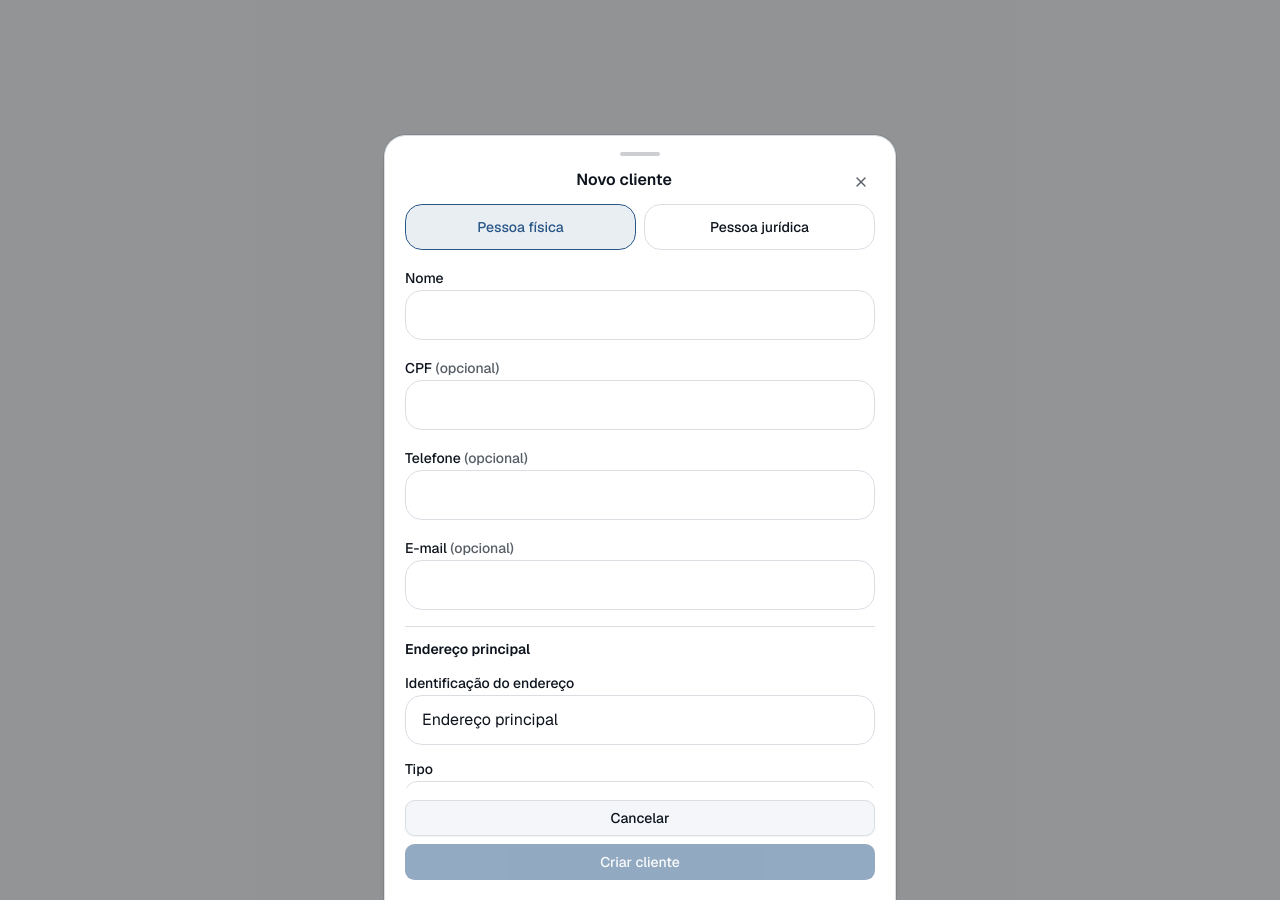
Test: QuickCustomerDialog › QC4: switching to Pessoa jurídica shows the CNPJ lookup button
Click the button "Pessoa jurídica": [760, 227] box top-left (644, 204), bottom-right (875, 250)
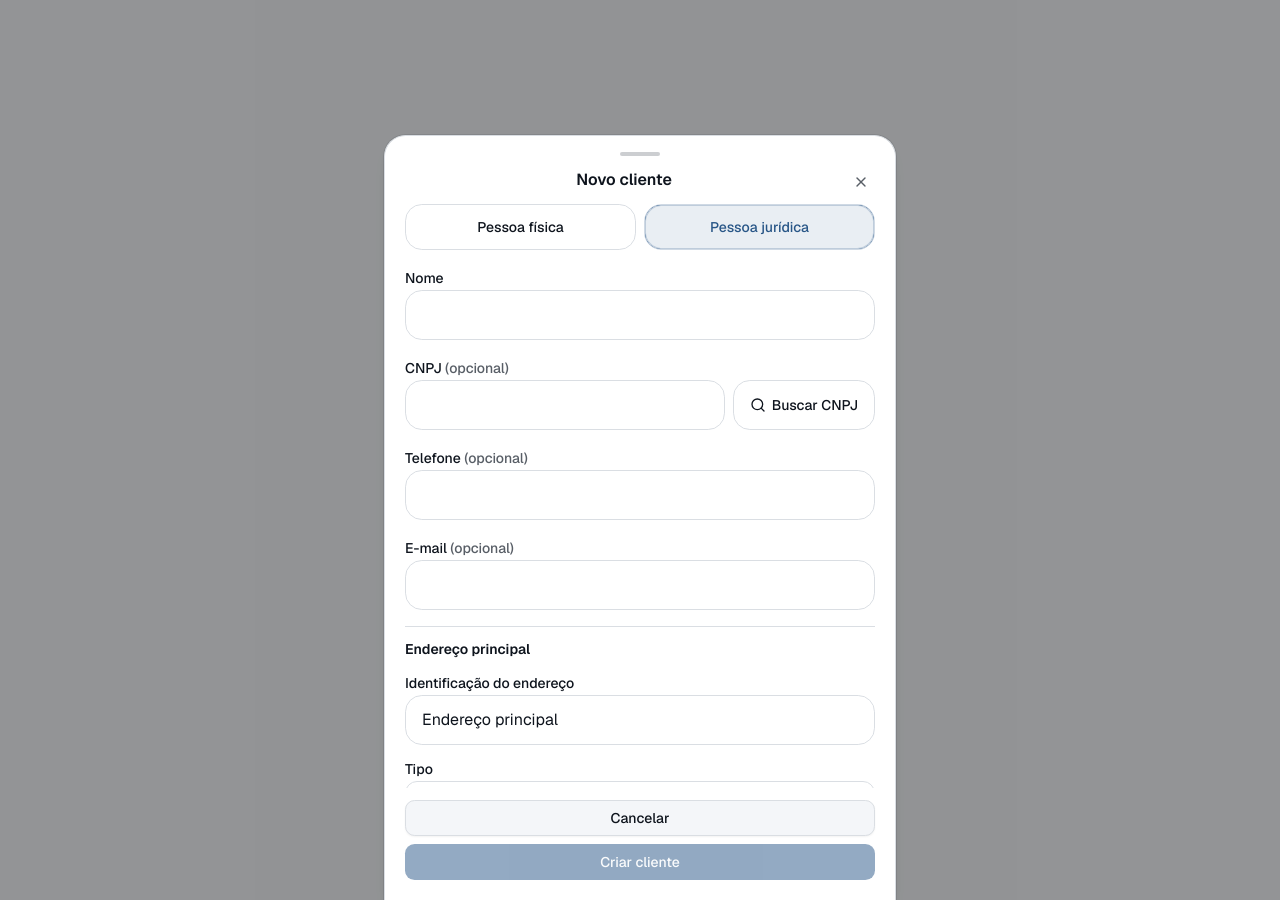
Now the button "Buscar CNPJ" is shown, box top-left (733, 380), bottom-right (875, 430)
